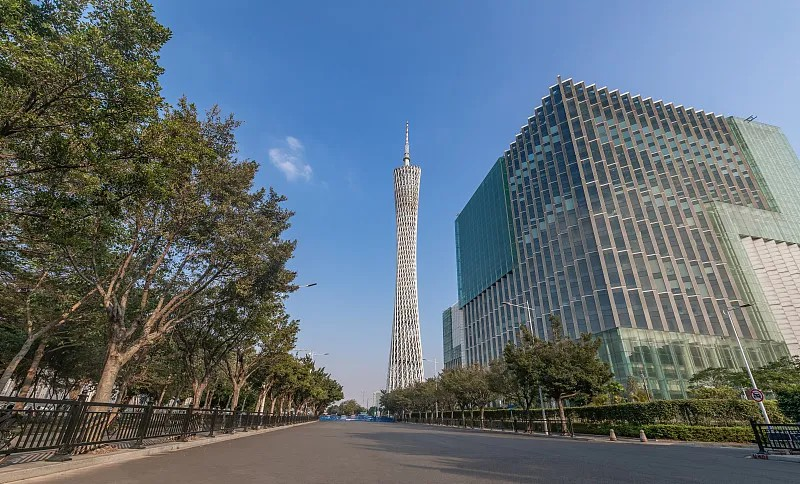Canton: (383, 120, 425, 406)
